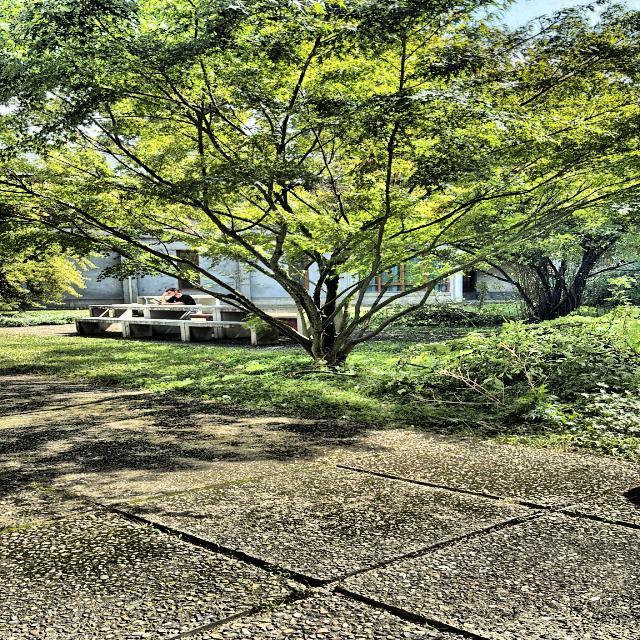arvore: (235, 0, 410, 367)
